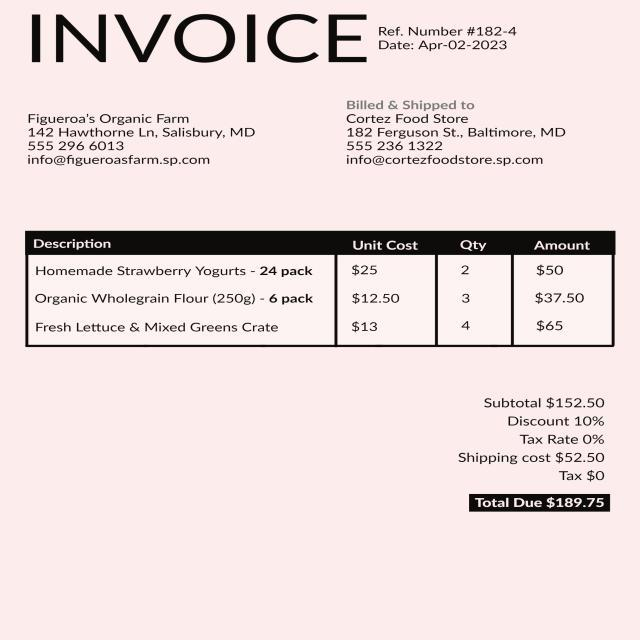customer_address: (344, 125, 573, 140)
customer_name: (343, 112, 476, 126)
invoice_date: (416, 38, 510, 54)
invoice_number: (465, 22, 521, 39)
invoice_subtotal: (542, 391, 609, 412)
invoice_total: (545, 492, 608, 513)
item_description: (27, 263, 322, 342)
item_quantity: (450, 260, 482, 337)
item_total_price: (524, 258, 595, 340)
item_unit_price: (344, 260, 407, 340)
supplier_address: (22, 124, 266, 140)
supplier_name: (22, 107, 193, 129)
tax_amount: (584, 468, 610, 486)
tax_rate: (581, 430, 609, 449)
